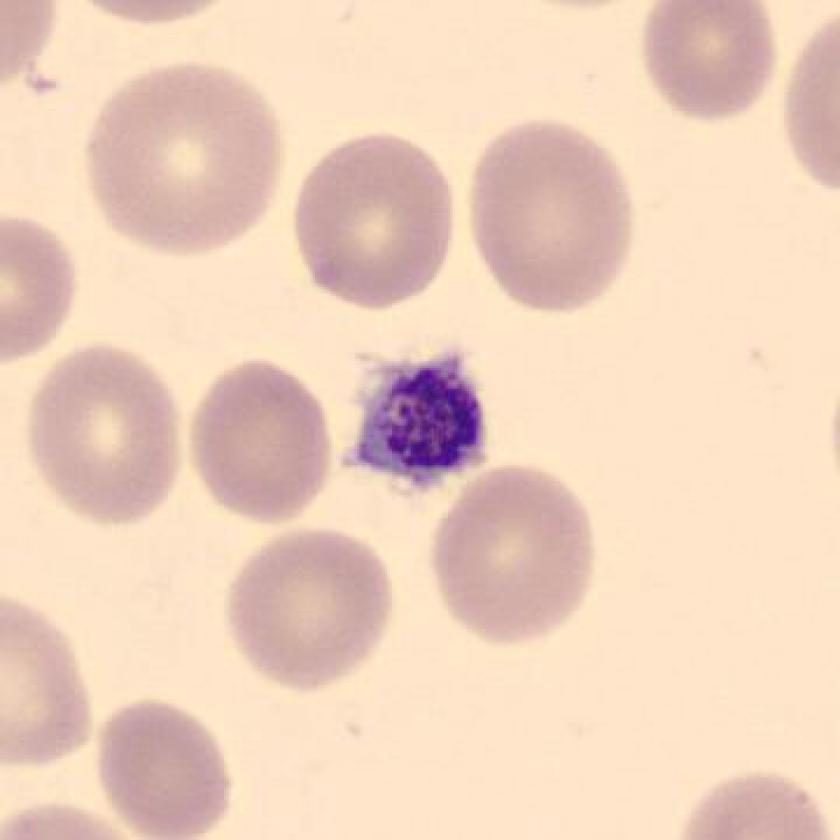platelets: (344, 337, 507, 506)
